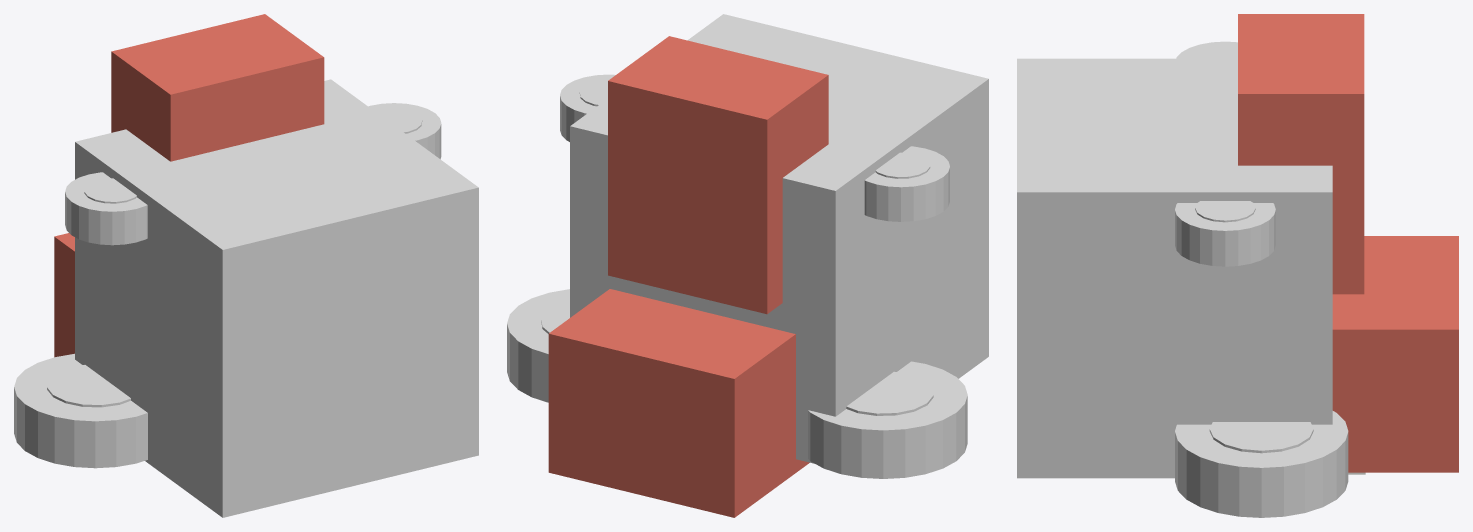
Rendered from tractor_1.glb.
3 renders of one model, left to right at view 1: azimuth 30°, elevation 25°; view 2: azimuth 150°, elevation 25°; view 3: azimuth 270°, elevation 25°, orthographic. The views are drawn at different scales.
Visible parts, largest first — view 1: Cube, Bonnet, Wheel_RR, Wheel_FR, Cabin, Wheel_FL; view 2: Cube, Bonnet, Cabin, Wheel_RR, Wheel_FR, Wheel_RL, Wheel_FL; view 3: Cube, Cabin, Bonnet, Wheel_RL, Wheel_FL, Wheel_FR.
Boxes of the visible parts, x1,y1,x2,y2 form: Cube: (75,79,478,517); Bonnet: (111,14,324,161); Wheel_RR: (14,353,147,468); Wheel_FR: (65,172,147,245); Cabin: (54,233,74,357); Wheel_FL: (368,103,441,159); Cube: (570,14,988,463); Bonnet: (608,36,828,314); Cabin: (548,289,809,517); Wheel_RR: (808,361,967,478); Wheel_FR: (864,146,949,221); Wheel_RL: (507,289,569,402); Wheel_FL: (560,74,615,141); Cube: (1017,58,1332,478); Cabin: (1332,236,1458,472); Bonnet: (1238,14,1364,294); Wheel_RL: (1175,411,1348,517); Wheel_FL: (1175,201,1275,266); Wheel_FR: (1176,41,1237,58).
Size of the model in its own units: 3.3 by 2.82 by 2.8.
